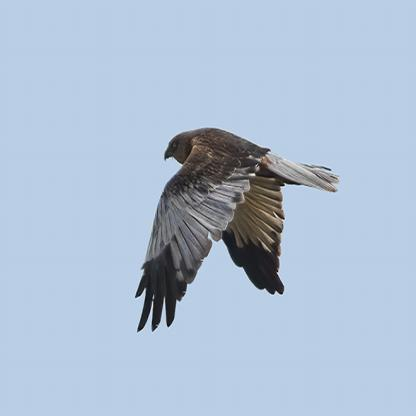Burung: (134, 131, 339, 329)
